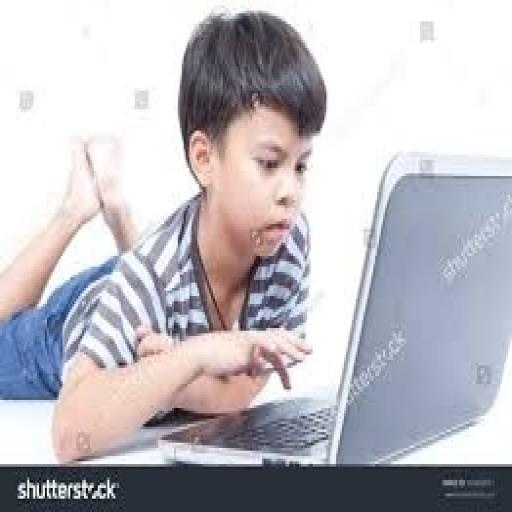using_laptop: (154, 146, 510, 466)
